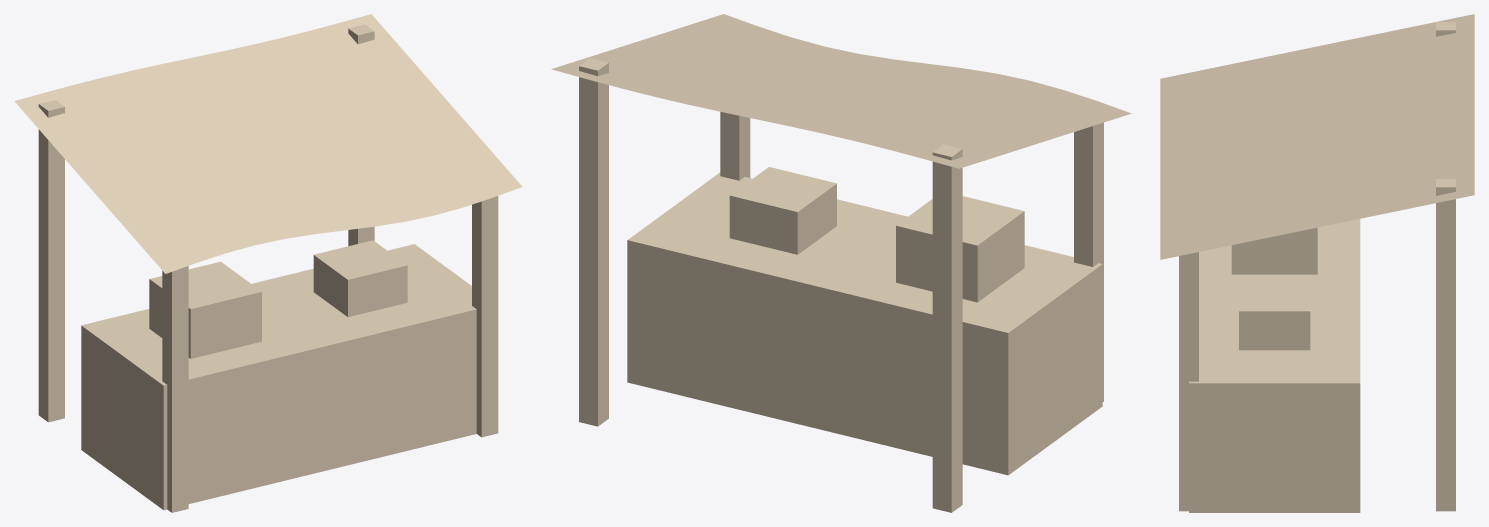
File: market_stall.gltf
The picture shows the model from 3 angles, left to right: view 1: azimuth 30°, elevation 25°; view 2: azimuth 150°, elevation 25°; view 3: azimuth 270°, elevation 25°; orthographic projection. The views are drawn at different scales.
Visible parts, largest first — view 1: stall_awning, COL_stall, stall_counter, stall_post_nw, stall_crate_a, stall_post_sw, stall_post_se, stall_crate_b, stall_post_ne; view 2: COL_stall, stall_counter, stall_awning, stall_post_nw, stall_post_ne, stall_crate_a, stall_crate_b, stall_post_sw, stall_post_se; view 3: stall_awning, COL_stall, stall_counter, stall_post_ne, stall_crate_b, stall_post_se, stall_crate_a.
Part boxes in pixels (bbox=[...]): stall_awning: bbox=[14, 14, 522, 273]; COL_stall: bbox=[81, 244, 476, 510]; stall_counter: bbox=[81, 319, 476, 503]; stall_post_nw: bbox=[38, 100, 64, 422]; stall_crate_a: bbox=[149, 261, 261, 358]; stall_post_sw: bbox=[162, 266, 188, 512]; stall_post_se: bbox=[472, 196, 498, 437]; stall_crate_b: bbox=[313, 240, 407, 317]; stall_post_ne: bbox=[348, 24, 374, 246]; COL_stall: bbox=[627, 172, 1102, 475]; stall_counter: bbox=[627, 247, 1102, 468]; stall_awning: bbox=[551, 14, 1131, 168]; stall_post_nw: bbox=[932, 144, 962, 512]; stall_post_ne: bbox=[579, 58, 608, 426]; stall_crate_a: bbox=[896, 196, 1024, 302]; stall_crate_b: bbox=[729, 167, 836, 254]; stall_post_sw: bbox=[1074, 122, 1103, 401]; stall_post_se: bbox=[720, 112, 750, 180]; stall_awning: bbox=[1160, 14, 1474, 259]; COL_stall: bbox=[1189, 219, 1360, 512]; stall_counter: bbox=[1189, 390, 1360, 506]; stall_post_ne: bbox=[1436, 179, 1455, 511]; stall_crate_b: bbox=[1239, 281, 1310, 350]; stall_post_se: bbox=[1179, 252, 1198, 511]; stall_crate_a: bbox=[1231, 227, 1317, 274].
Size of the model in its own units: 3 by 2.52 by 2.2.
